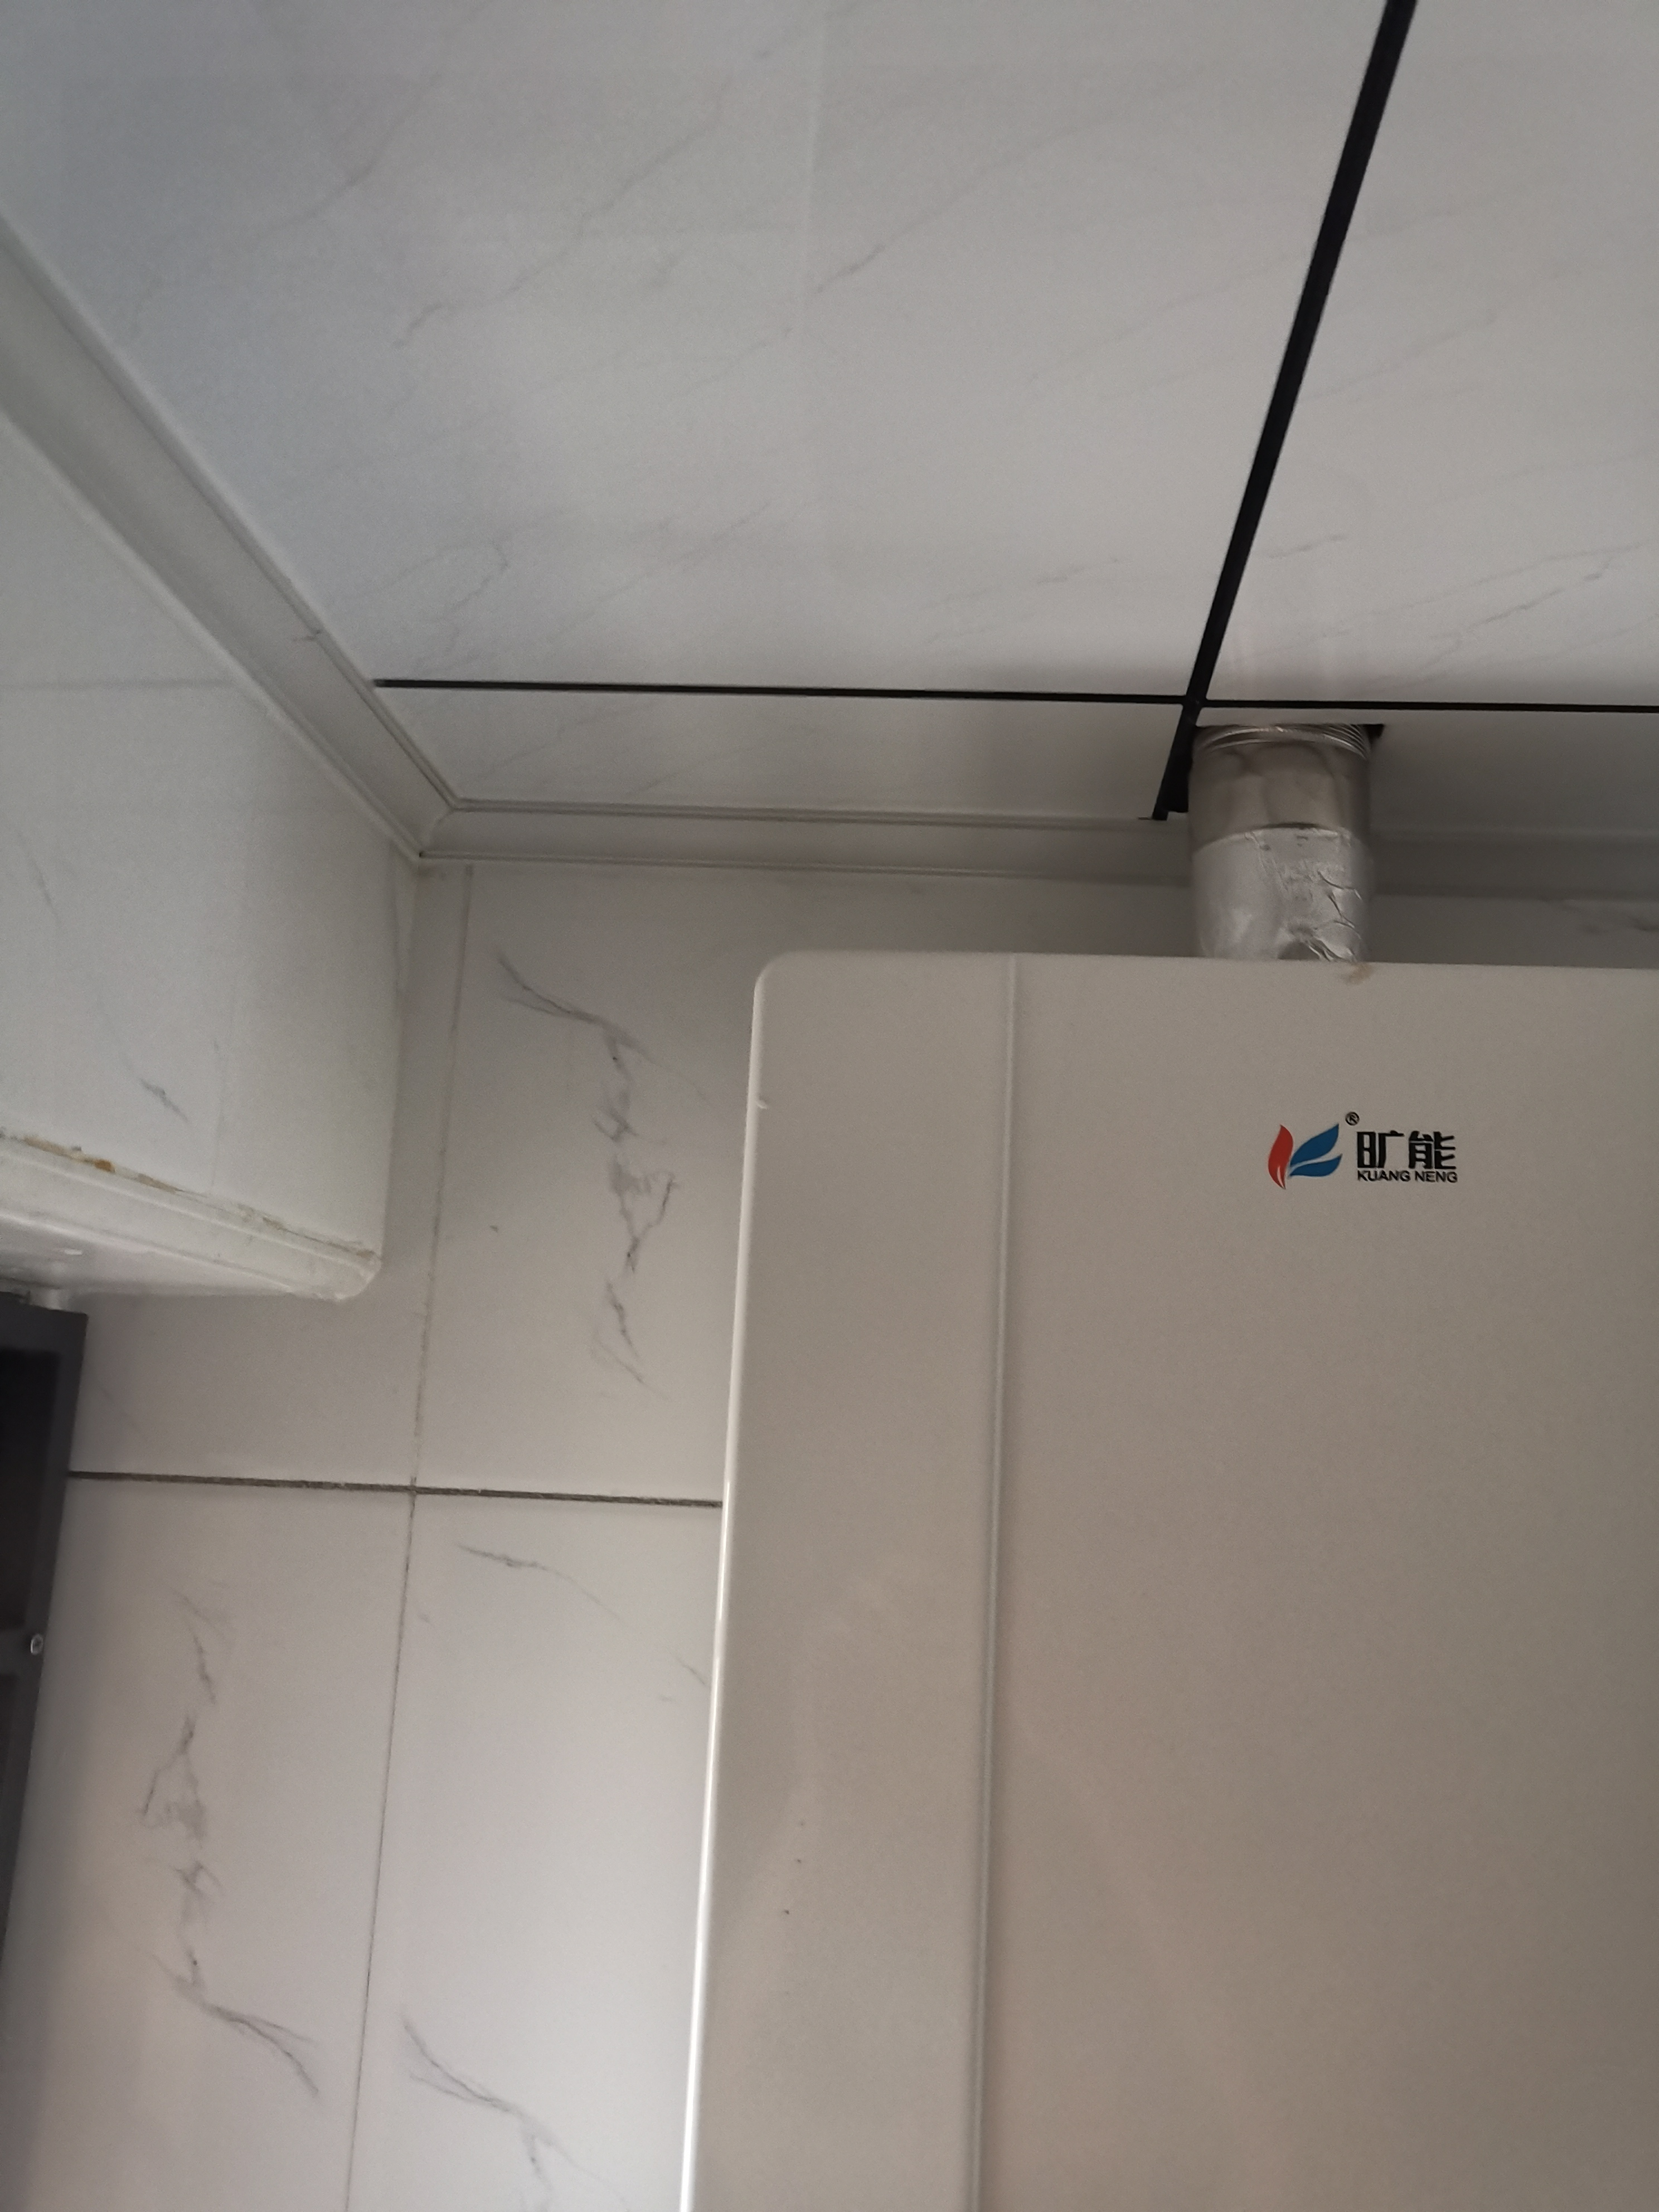loudou: (1251, 1092, 1478, 1198)
